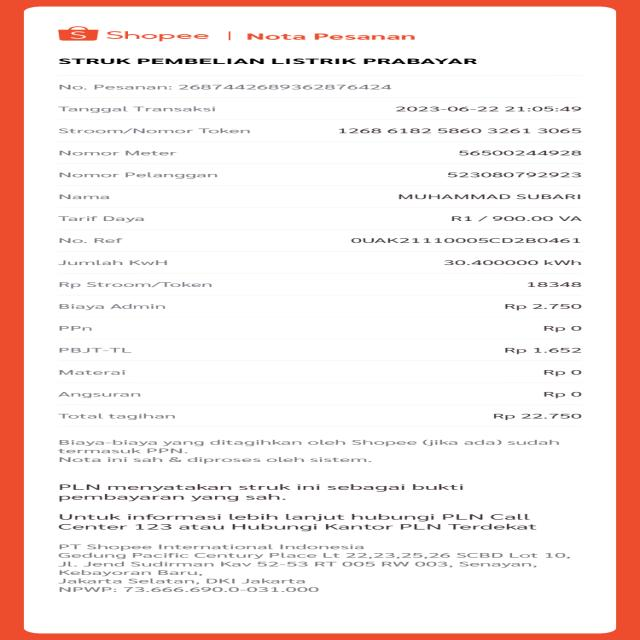date: (383, 104, 591, 115)
store: (55, 56, 494, 68)
total: (49, 410, 600, 423)
